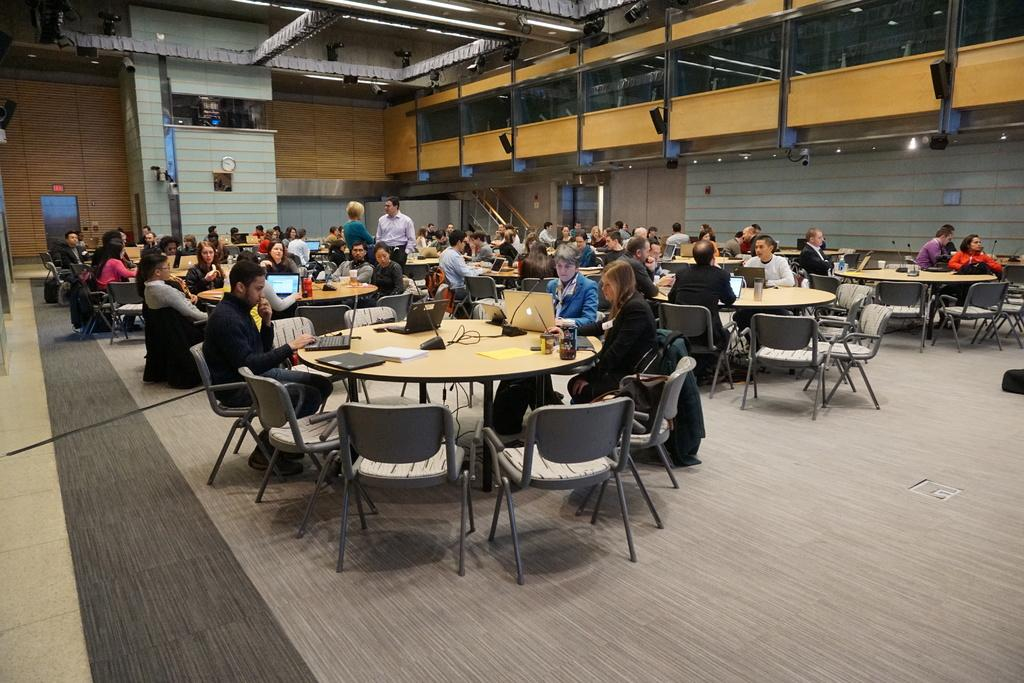Chair: (488, 391, 631, 585), (334, 401, 479, 572), (566, 352, 690, 522), (240, 363, 345, 542), (800, 304, 892, 413), (736, 315, 829, 420), (661, 299, 736, 400), (190, 334, 237, 487), (926, 284, 1009, 349), (875, 278, 932, 354), (108, 279, 152, 341), (808, 286, 871, 322), (345, 300, 395, 331), (305, 304, 354, 334), (269, 316, 314, 347), (461, 273, 499, 304), (522, 274, 554, 293), (49, 262, 68, 288), (38, 248, 52, 283)
